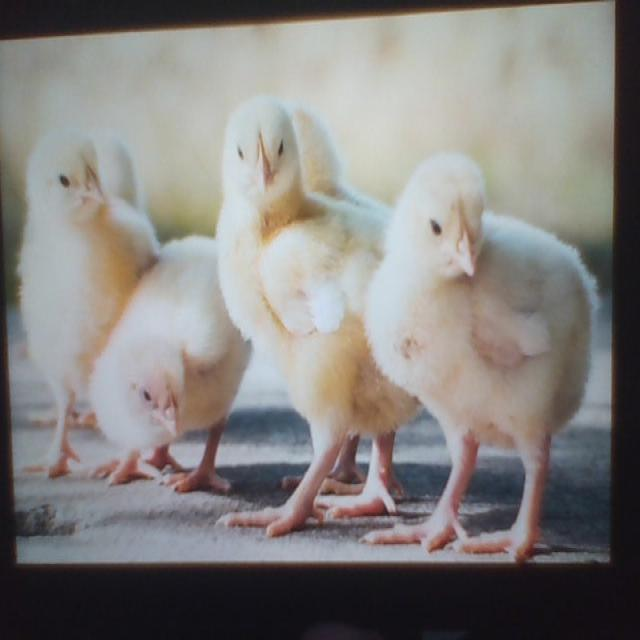Healthy: (374, 152, 591, 564), (218, 105, 398, 541), (12, 132, 122, 473)
Sick: (94, 232, 245, 501)
